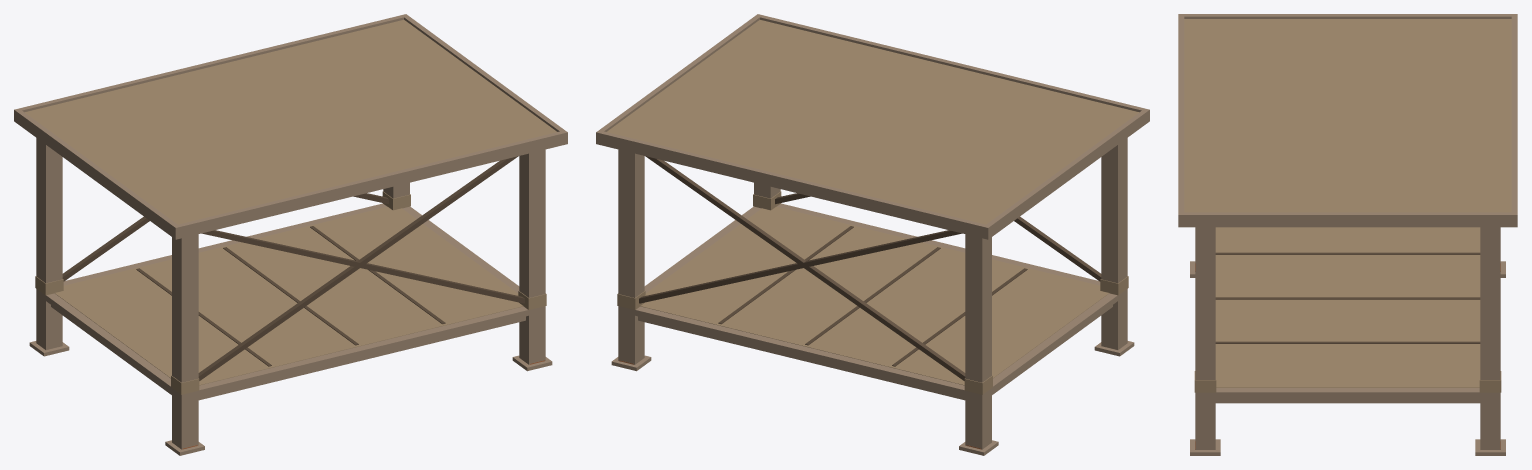
File: supply_stand_saltflat.glb
3 renders of one model, left to right at view 1: azimuth 30°, elevation 25°; view 2: azimuth 150°, elevation 25°; view 3: azimuth 270°, elevation 25°, orthographic. The views are drawn at different scales.
Parts seen in each view (by area): view 1: Stand_Body; view 2: Stand_Body; view 3: Stand_Body.
Boxes of the visible parts, left/top/right/bottom form: Stand_Body: left=14, top=14, right=567, bottom=455; Stand_Body: left=596, top=14, right=1149, bottom=455; Stand_Body: left=1178, top=14, right=1517, bottom=455.
Bounding box in the file's own units: 1.4 × 0.8 × 1.
